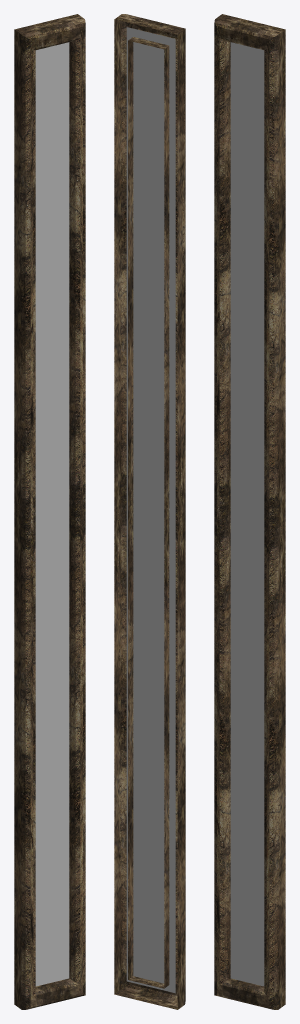
Rendered from CavitàLame.FBX.
The picture shows the model from 3 angles, left to right: view 1: azimuth 30°, elevation 25°; view 2: azimuth 150°, elevation 25°; view 3: azimuth 330°, elevation 25°; orthographic projection.
Visible parts, largest first — view 1: cavLame; view 2: cavLame; view 3: cavLame.
Part boxes in pixels (left/top/right/bottom): cavLame: left=14, top=14, right=85, bottom=1009; cavLame: left=114, top=14, right=185, bottom=1009; cavLame: left=214, top=14, right=285, bottom=1009.
Size of the model in its own units: 6.17 by 90.78 by 1.8.
